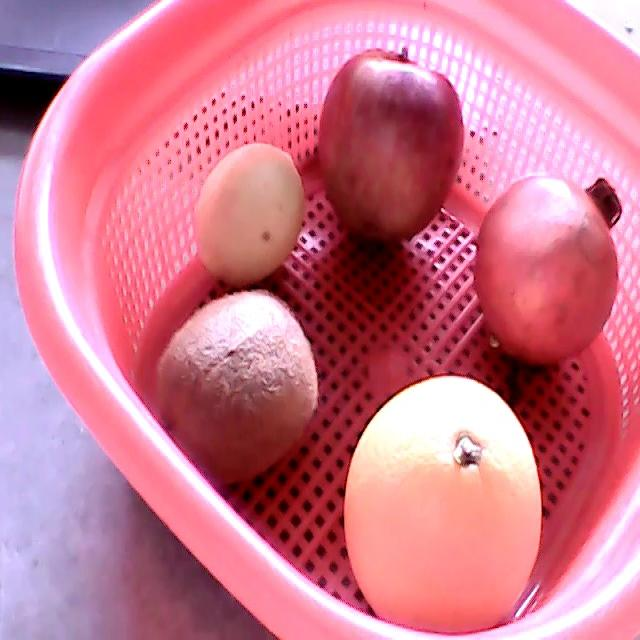apple: (318, 48, 465, 244)
kiwi: (157, 291, 319, 481)
lemon: (193, 145, 306, 286)
orange: (343, 377, 541, 636)
pomegranate: (474, 176, 623, 368)
